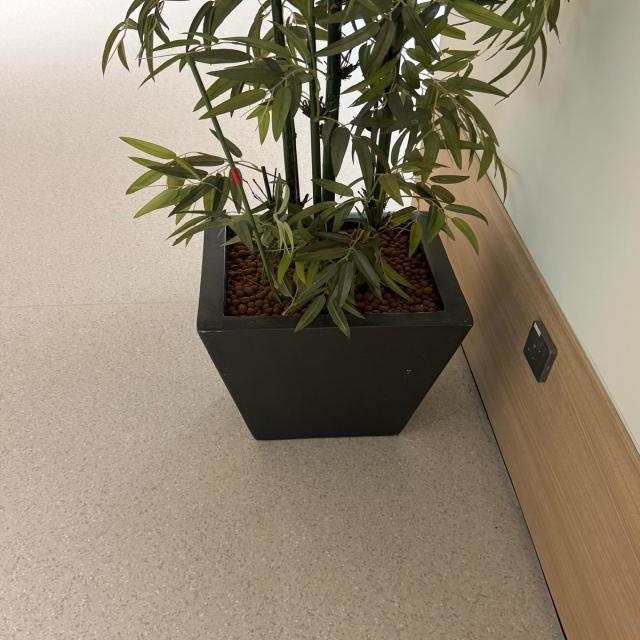Pot: (195, 210, 476, 441)
